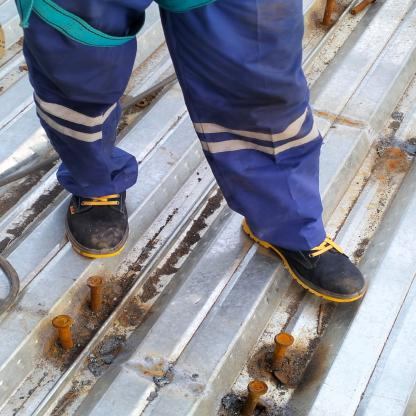bota: (236, 207, 370, 302), (56, 167, 140, 258)
